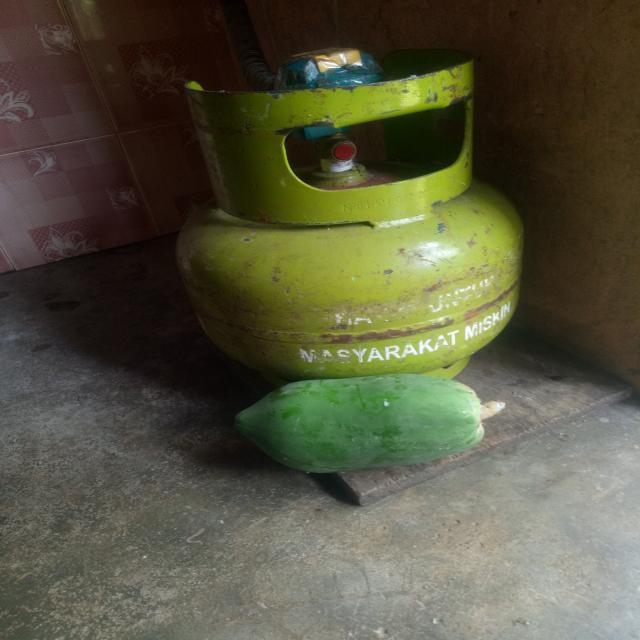Pepaya unrippen: (231, 378, 501, 469)
